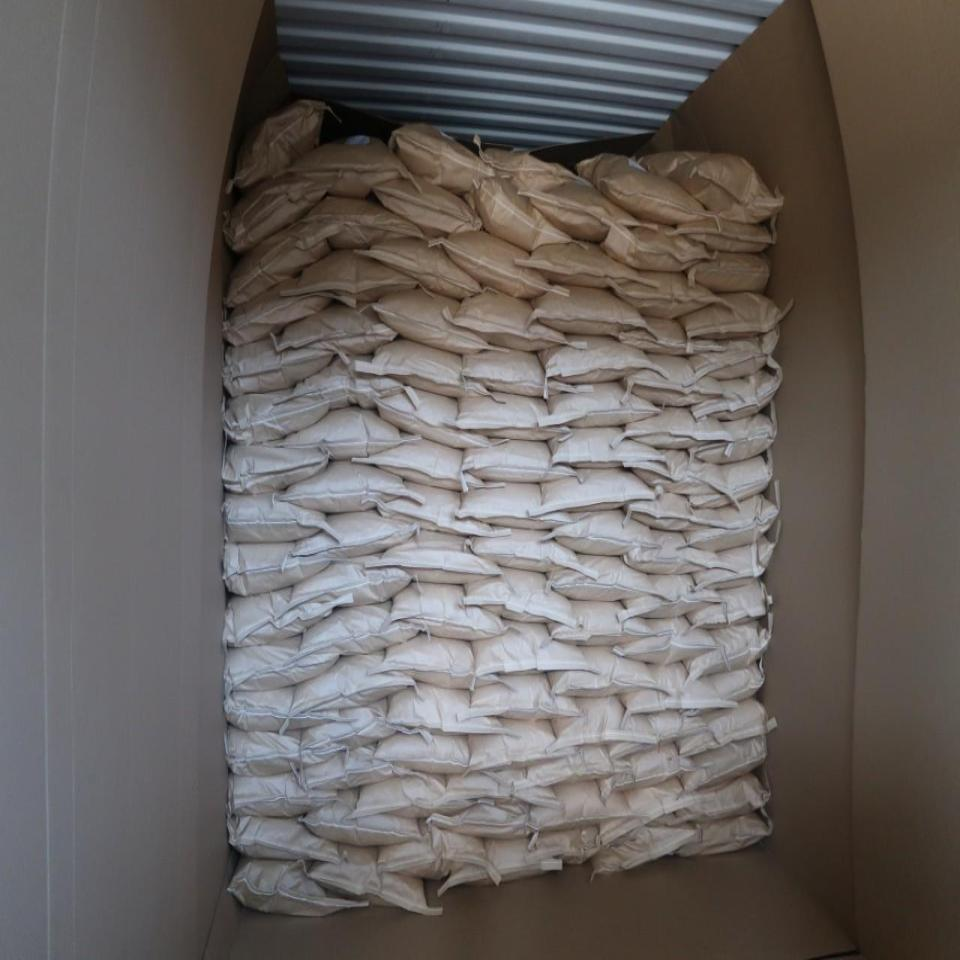bag: (639, 154, 782, 222), (581, 157, 719, 226), (225, 222, 329, 310), (307, 843, 435, 914), (228, 856, 370, 916), (373, 289, 502, 355), (370, 338, 496, 401), (223, 274, 333, 346), (462, 179, 572, 251), (289, 651, 413, 714), (378, 387, 504, 449), (225, 175, 326, 251), (233, 101, 323, 186), (437, 230, 551, 296), (273, 405, 412, 459), (222, 633, 343, 695), (300, 599, 421, 661), (388, 578, 505, 641), (523, 185, 655, 240), (466, 566, 580, 629), (274, 144, 412, 196), (357, 438, 492, 491), (455, 290, 567, 353), (224, 330, 332, 395), (395, 123, 499, 190), (378, 480, 507, 534), (476, 621, 600, 677), (286, 458, 409, 514), (295, 249, 420, 304), (374, 634, 503, 687), (306, 789, 428, 845), (288, 553, 416, 606), (439, 839, 562, 894), (224, 590, 342, 647), (530, 779, 648, 835), (366, 239, 478, 298), (547, 550, 674, 602), (293, 509, 417, 562), (467, 714, 576, 774), (379, 825, 497, 880), (389, 682, 507, 737), (376, 530, 500, 582), (621, 664, 738, 718), (293, 354, 405, 410), (221, 542, 332, 598), (299, 199, 423, 249), (546, 698, 660, 751), (601, 778, 698, 840), (224, 728, 351, 775), (525, 286, 649, 334), (540, 333, 656, 383), (220, 491, 329, 544), (527, 241, 652, 287), (375, 179, 482, 232), (591, 824, 698, 877), (353, 772, 478, 817), (279, 305, 396, 353), (548, 645, 658, 696), (223, 440, 328, 493), (601, 744, 700, 800), (458, 392, 568, 442), (224, 390, 329, 442), (463, 349, 574, 397), (626, 354, 728, 406), (686, 496, 779, 553), (662, 775, 770, 824), (612, 272, 720, 321), (480, 145, 594, 191), (468, 674, 584, 719), (471, 529, 587, 574), (546, 510, 659, 556), (297, 746, 416, 789), (681, 735, 769, 793), (682, 622, 770, 680), (546, 381, 659, 426), (460, 484, 575, 528), (678, 701, 770, 756), (462, 440, 579, 483), (550, 599, 659, 645), (224, 689, 343, 731), (626, 405, 733, 451), (631, 449, 733, 497), (544, 470, 659, 512), (227, 816, 339, 859), (606, 712, 713, 757), (617, 620, 717, 668), (682, 291, 781, 339), (603, 228, 711, 272), (226, 774, 339, 816), (302, 698, 398, 747), (686, 456, 771, 511), (374, 730, 471, 778), (626, 531, 733, 574), (442, 768, 563, 806), (619, 576, 720, 621), (628, 492, 736, 534), (552, 428, 666, 467), (694, 537, 775, 591), (673, 813, 770, 857), (692, 372, 777, 421), (697, 329, 776, 381), (687, 582, 770, 631), (530, 747, 629, 787), (618, 320, 717, 359), (430, 804, 537, 840), (696, 416, 774, 465), (676, 218, 773, 256), (688, 251, 771, 293), (526, 828, 608, 865), (708, 665, 765, 702)
